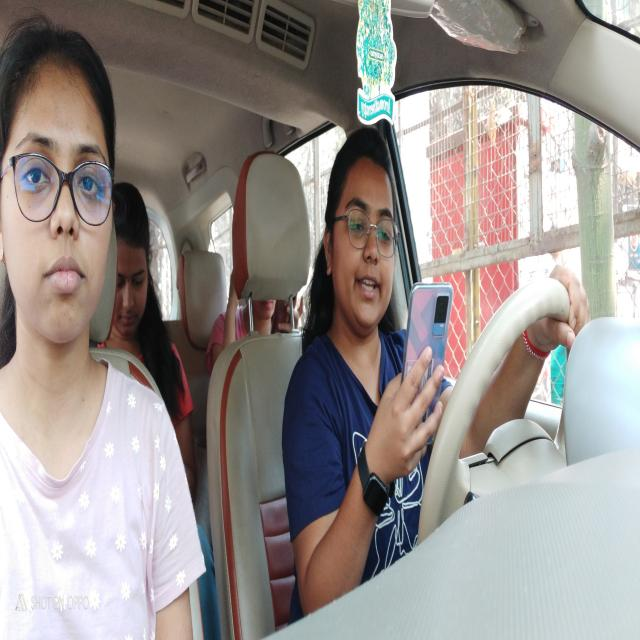mobile: (403, 258, 457, 433)
person: (2, 18, 136, 358), (317, 123, 406, 324), (116, 168, 161, 356)
